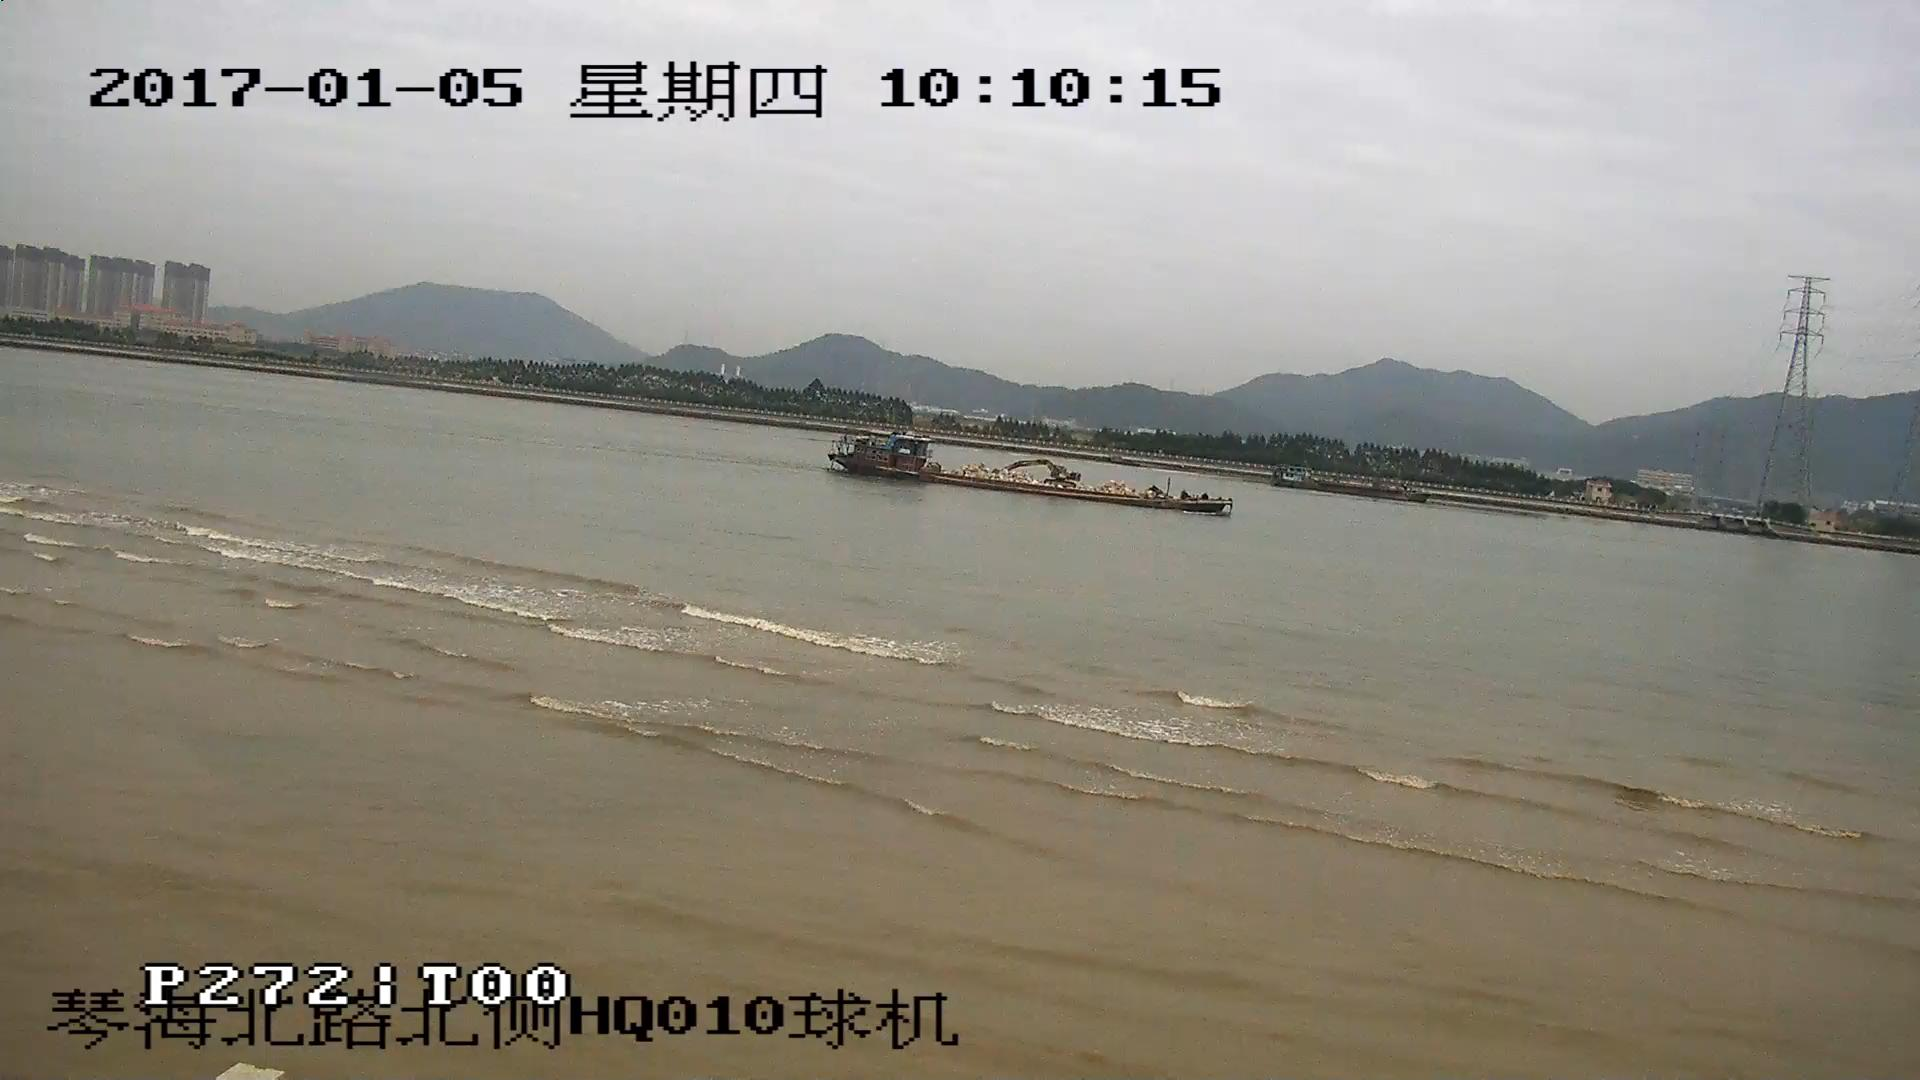bulk cargo carrier: (826, 421, 1231, 519)
